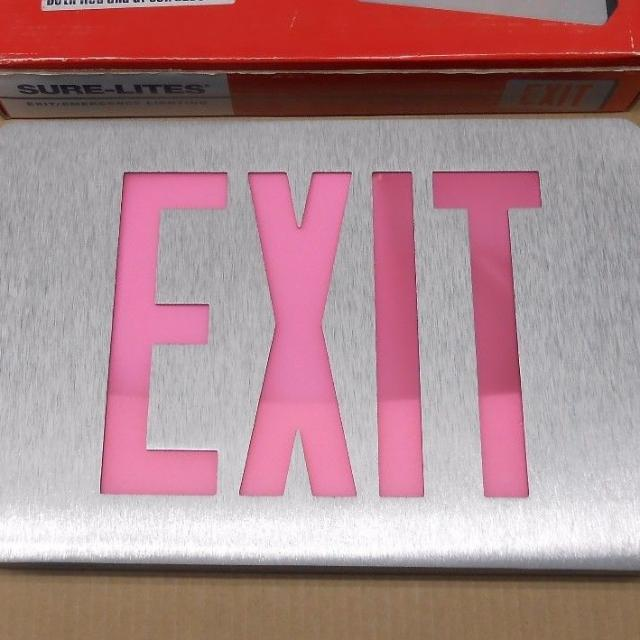exit: (0, 118, 639, 570)
